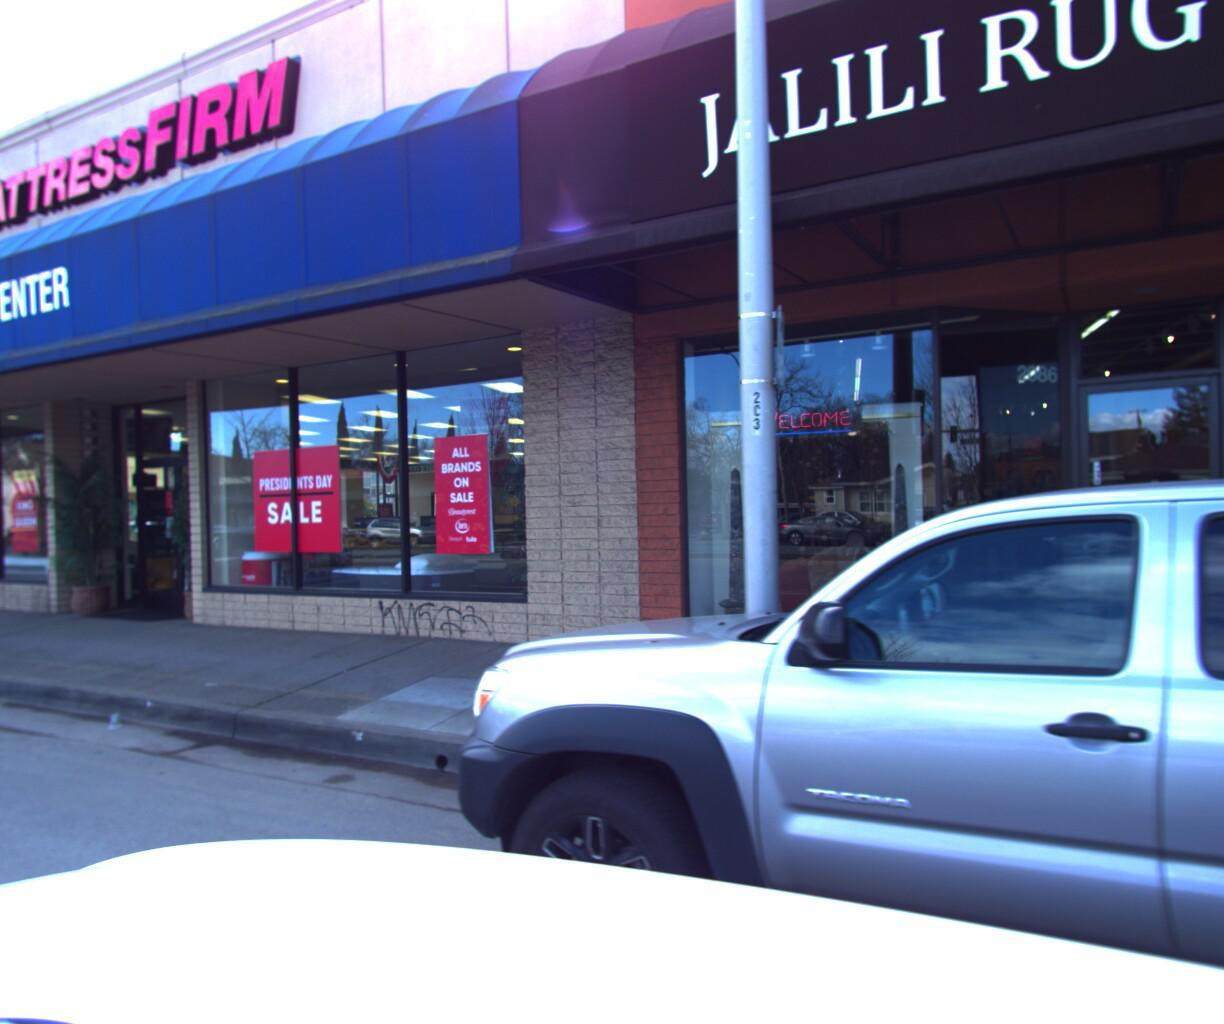car: (380, 380, 1224, 1024)
